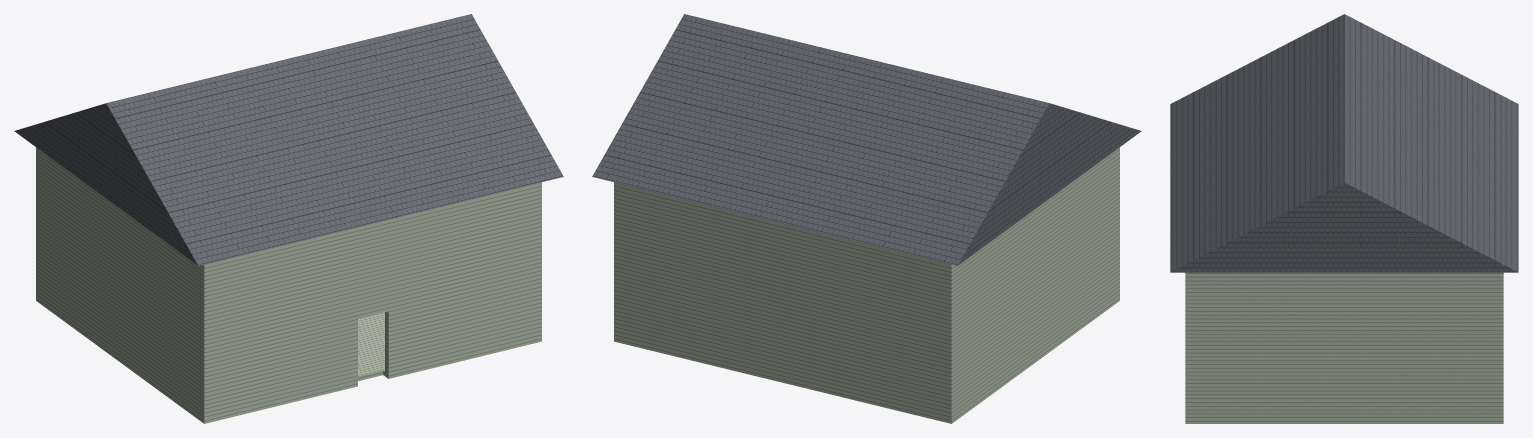
The model's file is colonial_revival.glb.
3 views of the same model, side by side, from view 1: azimuth 30°, elevation 25°; view 2: azimuth 150°, elevation 25°; view 3: azimuth 270°, elevation 25° (orthographic). The views are drawn at different scales.
Parts seen in each view (by area): view 1: colonial_revival-col; view 2: colonial_revival-col; view 3: colonial_revival-col.
Part boxes in pixels (bbox=[...]): colonial_revival-col: bbox=[14, 14, 563, 423]; colonial_revival-col: bbox=[592, 14, 1141, 423]; colonial_revival-col: bbox=[1170, 14, 1518, 423].
Size of the model in its own units: 11.9 by 8.17 by 10.4.
Materials: 2 (2 with a texture image).
